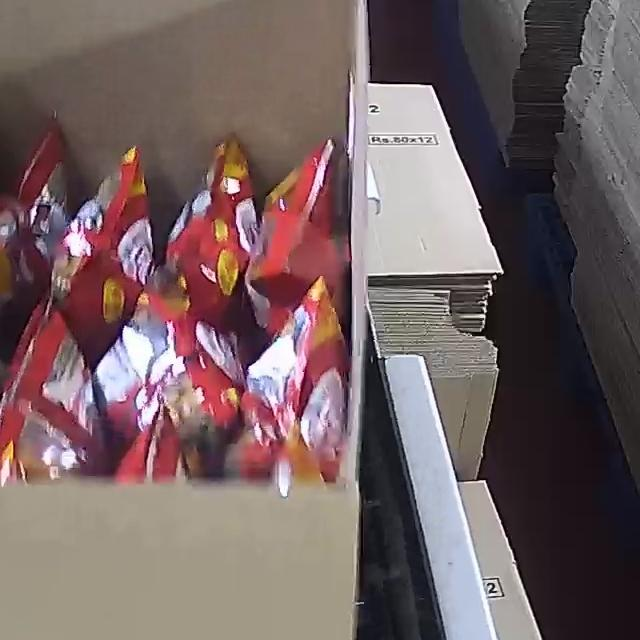masala: (0, 119, 353, 487)
